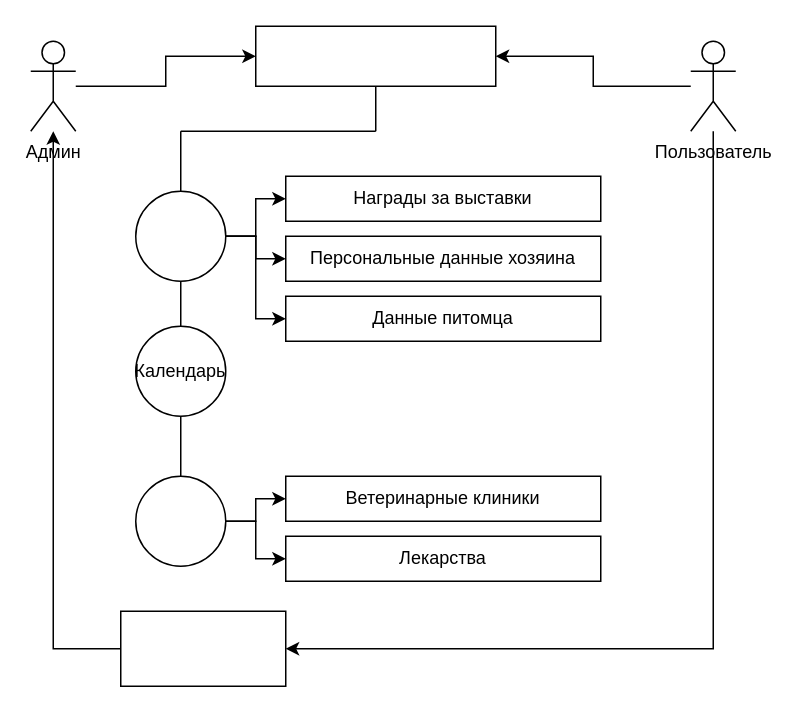
This 798x713 diagram has some shape labels left out. Each missing label, with the centre of its shape:
История: the point at 180,520
Профиль: the point at 180,235
Регистрация: the point at 375,55
Техподдержка: the point at 202,648
